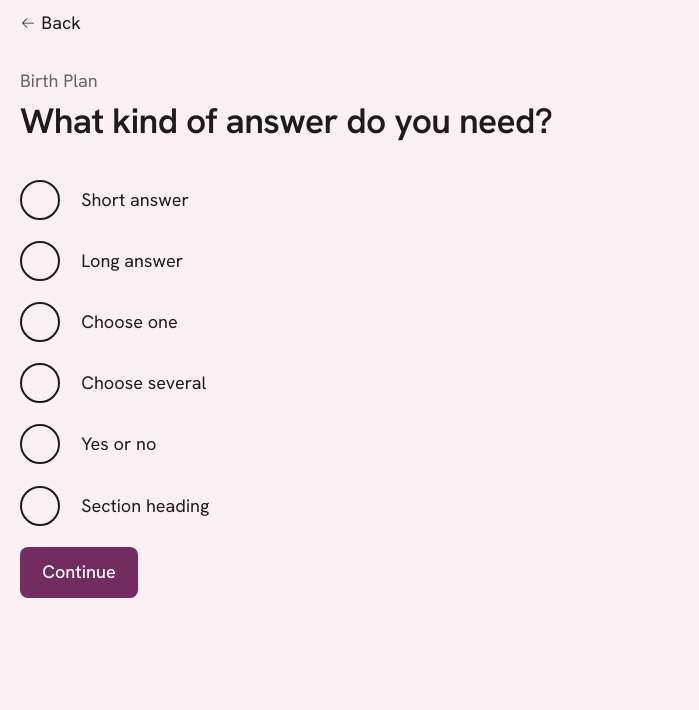
Test: the kind of answer for a new Plan Template question (#2193) › asks again when no kind is chosen
Click the button "Continue": click(79, 573) x1=20 y1=547 x2=138 y2=598
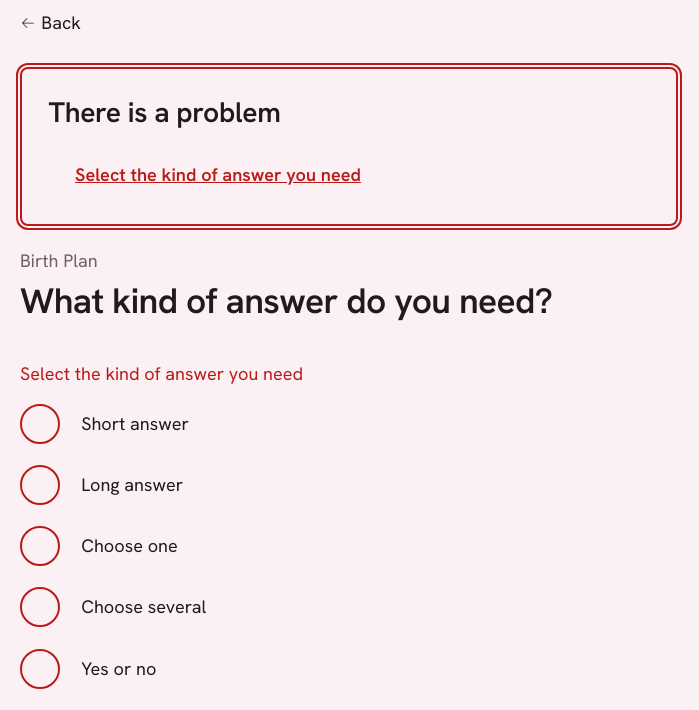
Now the link "Select the kind of answer you need" is shown, box x1=75 y1=163 x2=361 y2=186
